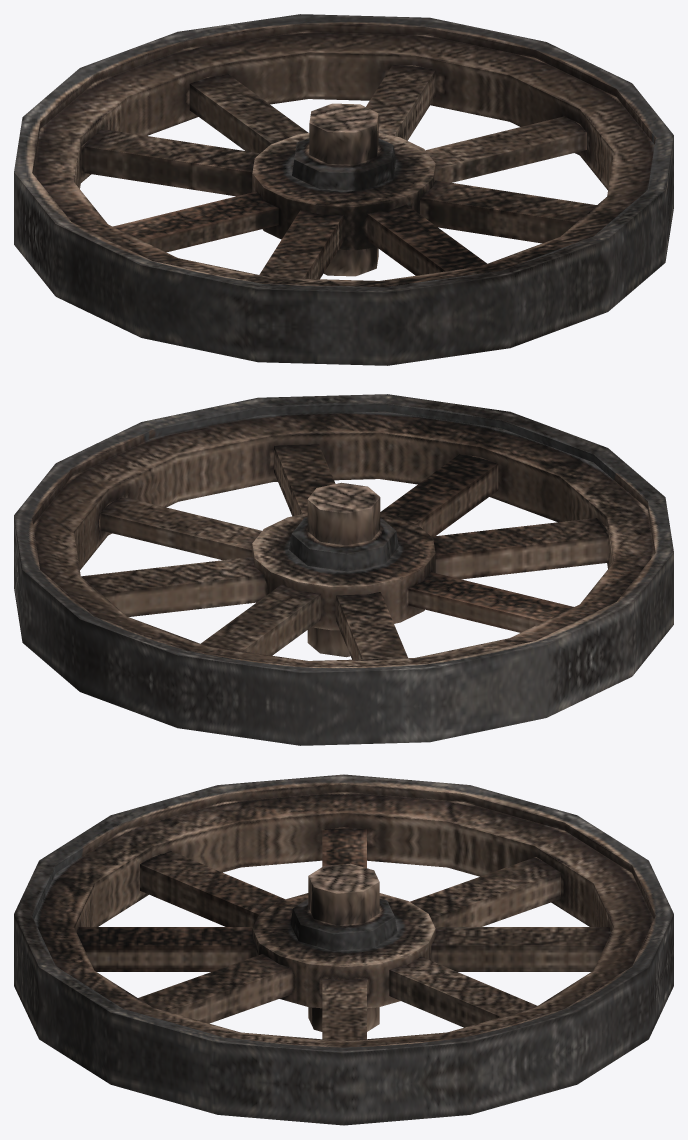
File: Wheel Full.FBX
3 views of the same model, one above another, from view 1: azimuth 30°, elevation 25°; view 2: azimuth 150°, elevation 25°; view 3: azimuth 270°, elevation 25° (orthographic).
Visible parts, largest first — view 1: Wheel; view 2: Wheel; view 3: Wheel.
Part boxes in pixels (left/top/right/bottom): Wheel: left=14, top=14, right=673, bottom=365; Wheel: left=14, top=394, right=673, bottom=745; Wheel: left=14, top=774, right=673, bottom=1125.
Size of the model in its own units: 66.7 by 66.7 by 15.88.
Materials: 1 (1 with a texture image).
